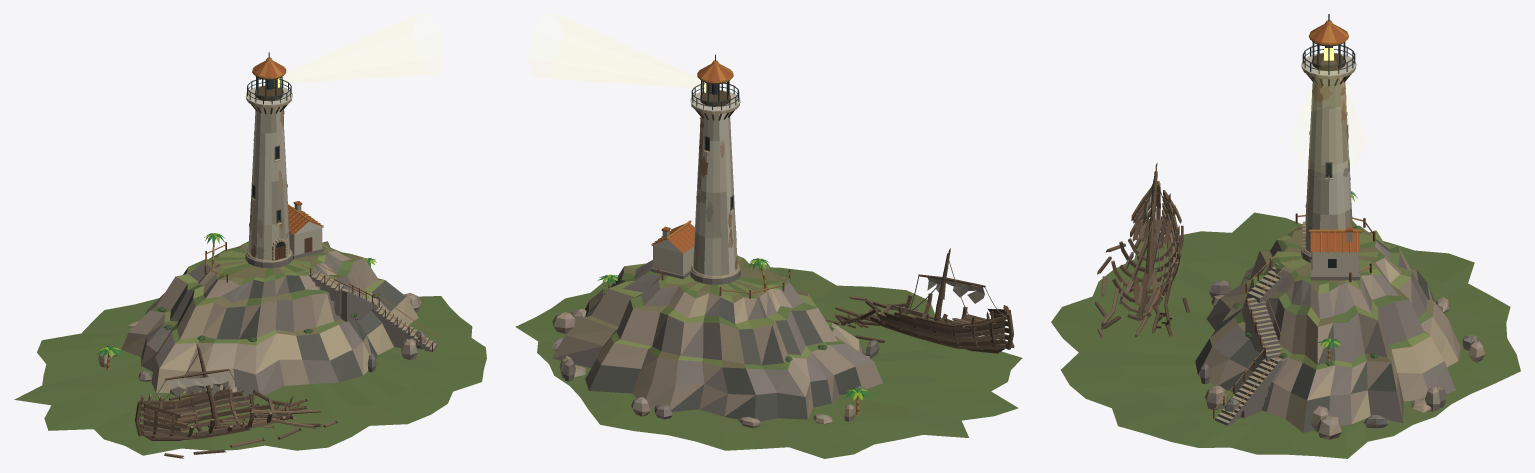
Rendered from landmark_assembly.glb.
3 views of the same model, side by side, from view 1: azimuth 30°, elevation 25°; view 2: azimuth 150°, elevation 25°; view 3: azimuth 270°, elevation 25° (orthographic). The views are drawn at different scales.
Visible parts, largest first — view 1: Terrain_Static_PC, Lighthouse_Static_PC, Wreck_PC_Geometry; view 2: Terrain_Static_PC, Lighthouse_Static_PC, Wreck_PC_Geometry; view 3: Terrain_Static_PC, Lighthouse_Static_PC, Wreck_PC_Geometry.
Boxes of the visible parts, x1=… form: Terrain_Static_PC: x1=14, y1=233, x2=486, y2=455; Lighthouse_Static_PC: x1=245, y1=52, x2=324, y2=268; Wreck_PC_Geometry: x1=135, y1=341, x2=337, y2=458; Terrain_Static_PC: x1=515, y1=255, x2=1022, y2=458; Lighthouse_Static_PC: x1=651, y1=54, x2=740, y2=284; Wreck_PC_Geometry: x1=825, y1=248, x2=1014, y2=353; Terrain_Static_PC: x1=1051, y1=191, x2=1520, y2=458; Lighthouse_Static_PC: x1=1301, y1=14, x2=1361, y2=280; Wreck_PC_Geometry: x1=1095, y1=163, x2=1190, y2=338.
Size of the model in its own units: 54.28 by 35.27 by 43.75.
